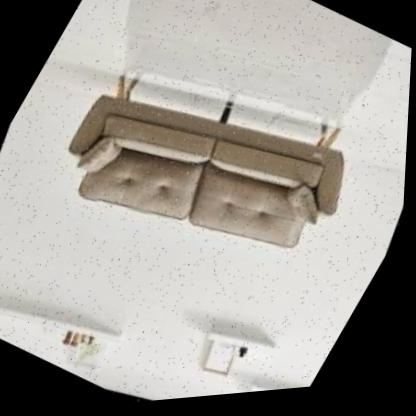Sofa: (0, 0, 416, 363)
